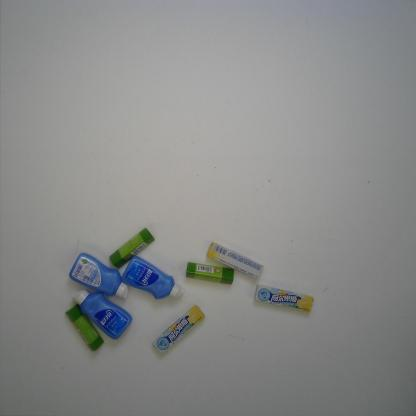Candy: (152, 304, 206, 354), (206, 242, 264, 280), (254, 284, 314, 313)
Personal Hygiene: (121, 254, 186, 300), (73, 290, 132, 340), (68, 252, 129, 300)
Stationery: (109, 227, 155, 269), (65, 303, 104, 352), (186, 262, 234, 285)
